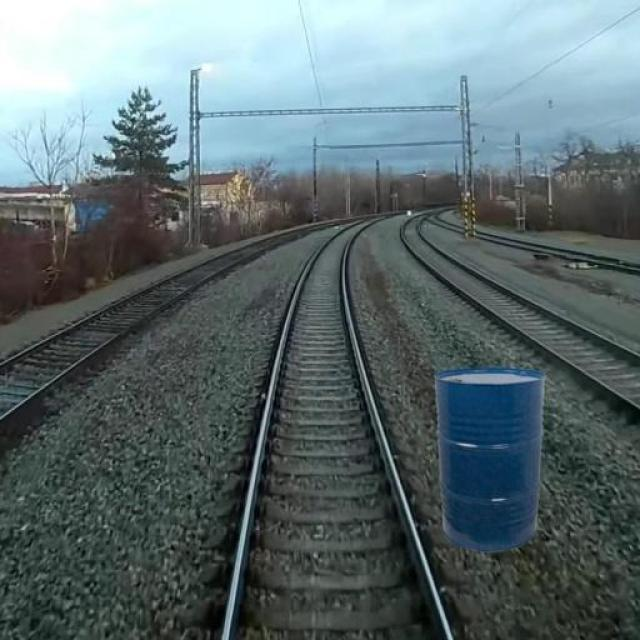Other_objects: (428, 359, 552, 556)
